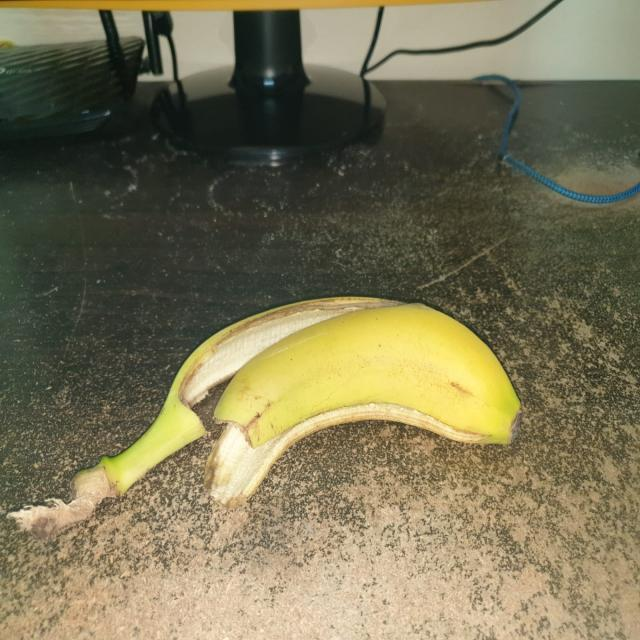banana-peel: (6, 293, 521, 536)
